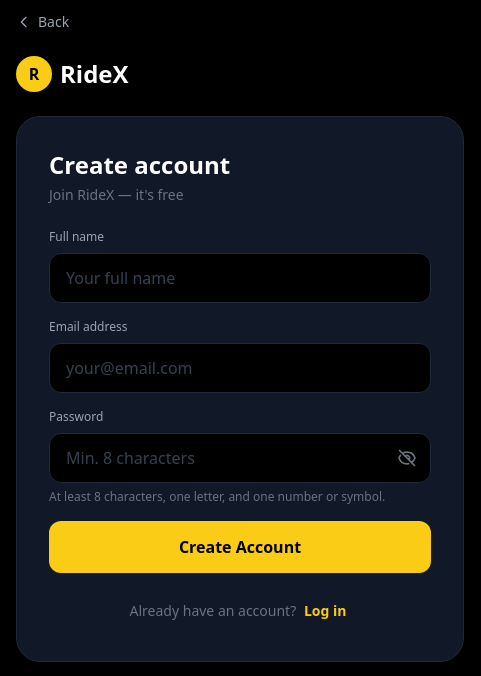
Scenario: Register page › shows error for invalid characters in name
Type "Alice123" into the field with placeholder "Your full name".
click(240, 278); type("Alice123")  # box left=49, top=253, right=431, bottom=303
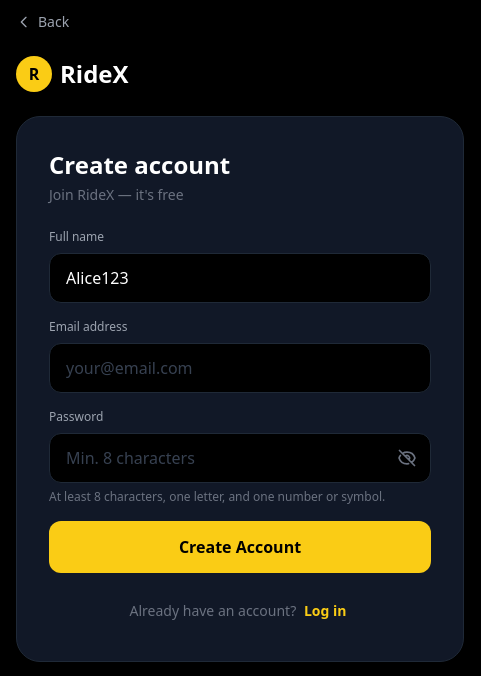
Type "a@b.com" into the field with placeholder "your@email.com".
click(240, 368); type("a@b.com")  # box left=49, top=343, right=431, bottom=393
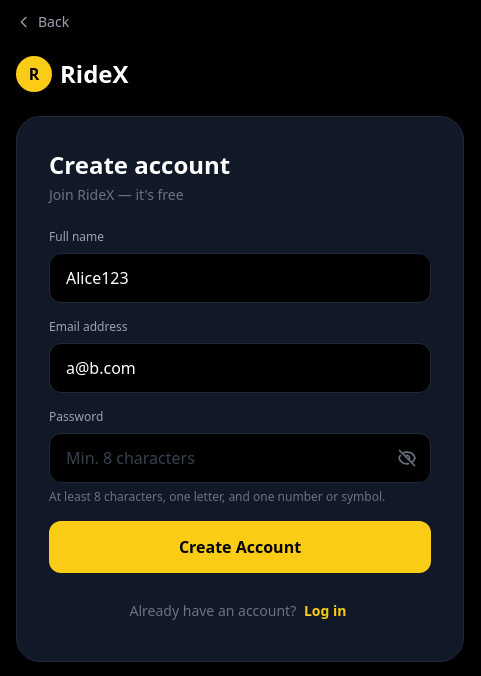
Type "Password1!" into the password field with placeholder "Min. 8 characters".
click(240, 458); type("Password1!")  # box left=49, top=433, right=431, bottom=483
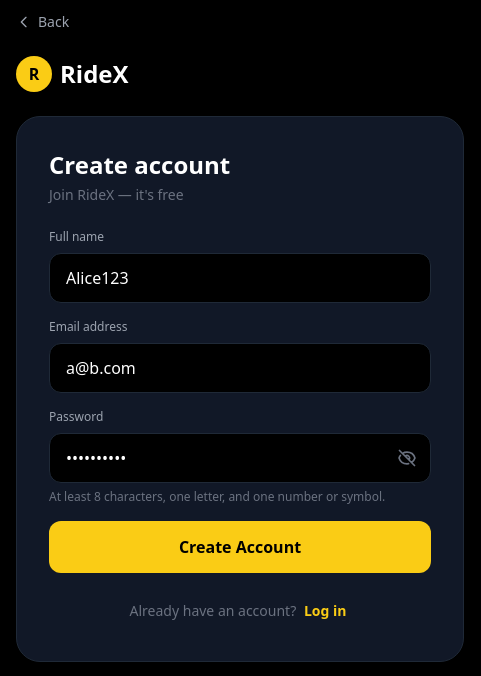
Click the button "Create Account".
click(240, 547)  # box left=49, top=521, right=431, bottom=573
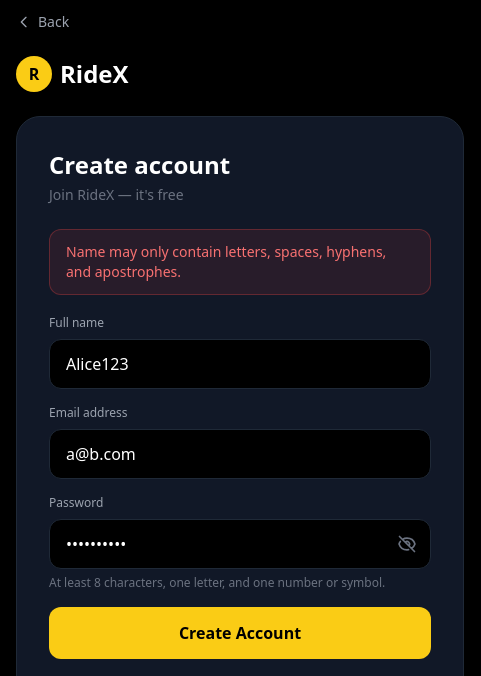
Now the text "letters, spaces, hyphens" is shown, box left=66, top=242, right=386, bottom=281
